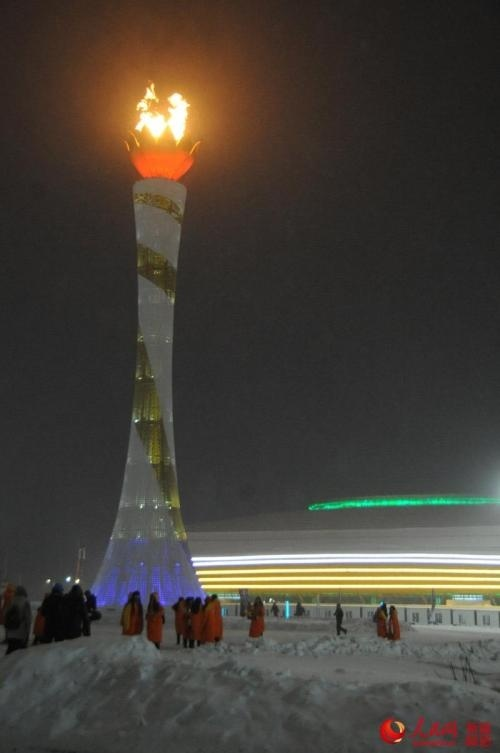fire: (130, 80, 192, 143)
